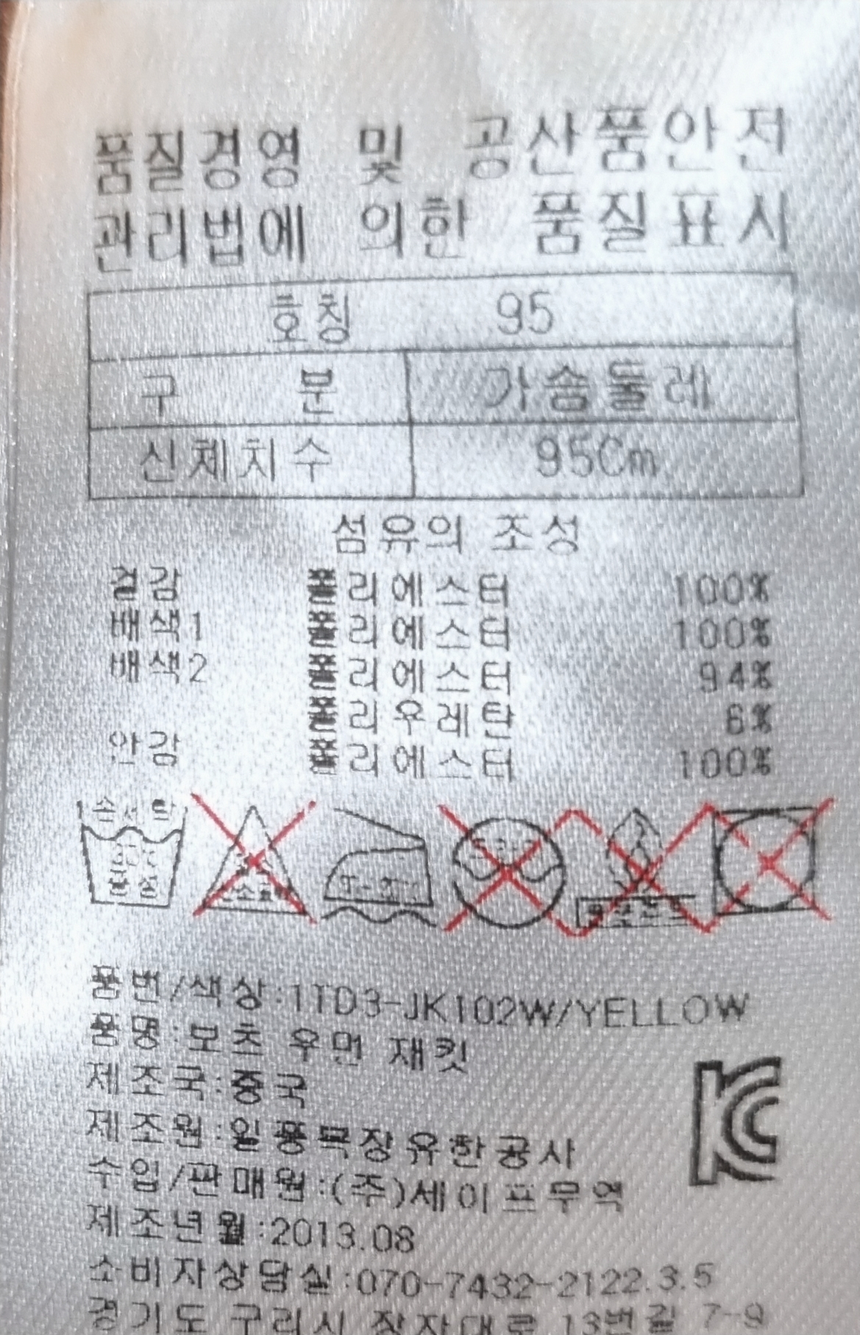KR_hand_wash_30_neutral: (64, 788, 191, 917)
KR_iron_low_temp_with_cloth: (323, 793, 441, 925)
KR_no_bleach: (195, 802, 309, 923)
KR_no_dry_clean: (448, 803, 572, 933)
KR_no_tumble_dry: (707, 806, 826, 924)
